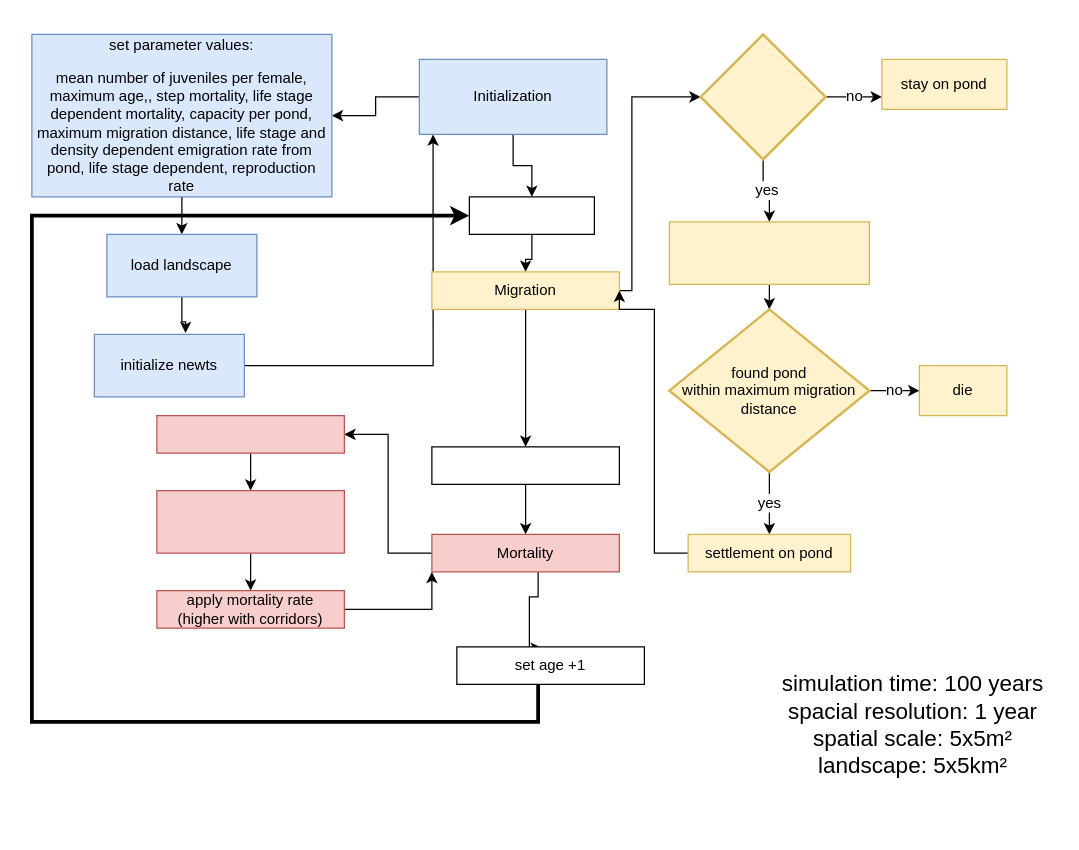
This 1079x850 diagram has some shape labels left out. The shapes that lost their labels are listed below. From the top down, each one's centre as x and y in pixels, then its label:
At (x=762, y=96): "Emigrate from pond".
At (x=531, y=215): "year + 1".
At (x=768, y=252): "Stochastic movement simulator with step mortality".
At (x=250, y=433): "remove individuals older than maximum age".
At (x=525, y=465): "Reproduction".
At (x=250, y=521): "remove excess individuals of carrying capacity of ponds".
